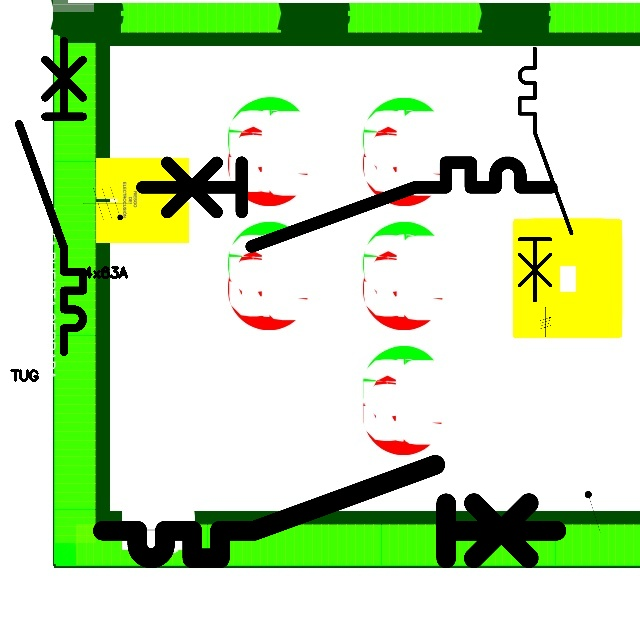interruptor_termomagnetico: (91, 453, 568, 570), (131, 152, 561, 257), (11, 33, 91, 360), (513, 42, 578, 307)
